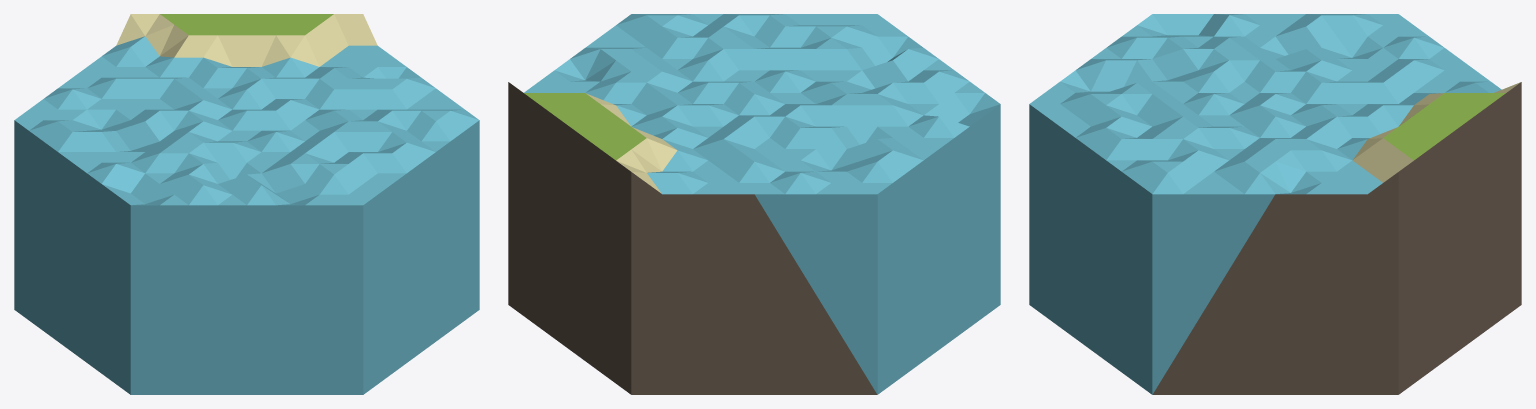
The model's file is coast1.fbx.
3 views of the same model, side by side, from view 1: azimuth 30°, elevation 25°; view 2: azimuth 150°, elevation 25°; view 3: azimuth 270°, elevation 25° (orthographic). The views are drawn at different scales.
Parts seen in each view (by area): view 1: Cylinder; view 2: Cylinder; view 3: Cylinder.
Boxes of the visible parts, left/top/right/bottom form: Cylinder: left=14, top=14, right=479, bottom=394; Cylinder: left=508, top=14, right=1000, bottom=394; Cylinder: left=1029, top=14, right=1521, bottom=394.
Bounding box in the file's own units: 1.73 × 1 × 2.
